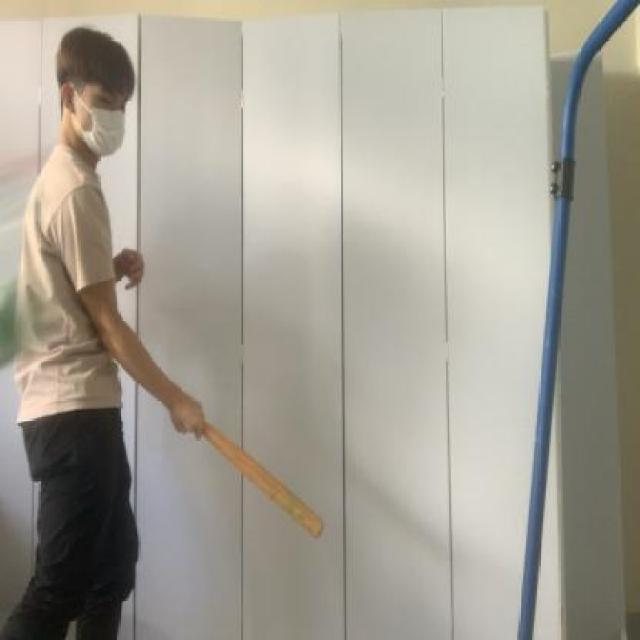baseball: (0, 279, 42, 363)
